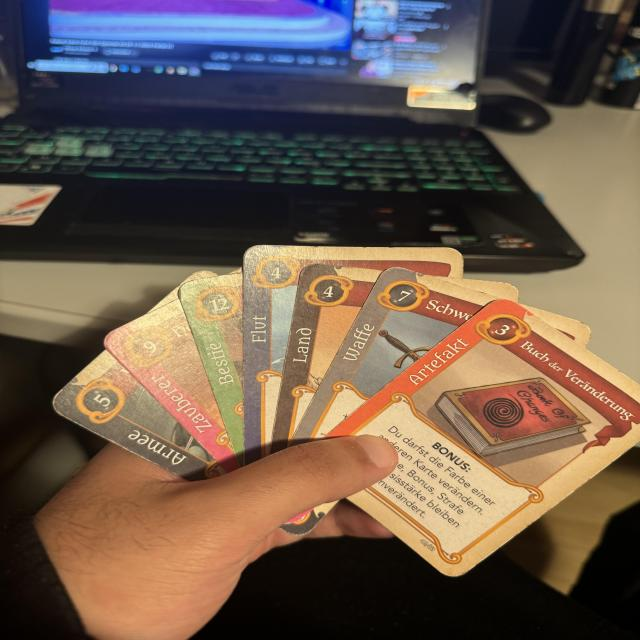Beast Master: (105, 300, 242, 472)
Book Of Changes: (324, 295, 640, 582)
Earth Elemental: (271, 260, 381, 453)
Hydra: (177, 273, 249, 466)
Rangers: (51, 348, 229, 481)
Sword of Keth: (291, 267, 494, 443)
Water Elemental: (246, 248, 312, 464)
